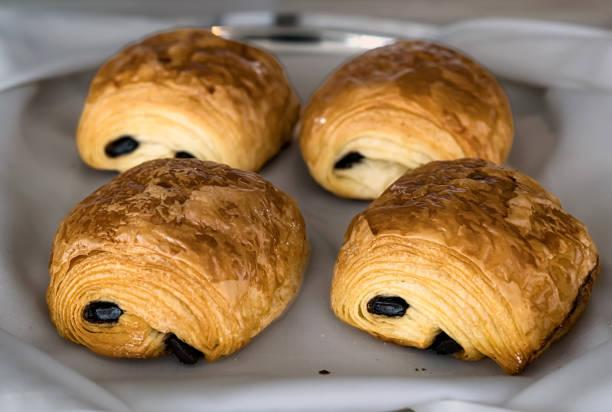pain au chocolat: (329, 152, 603, 379), (38, 160, 308, 368), (74, 15, 303, 191), (294, 35, 526, 203)
